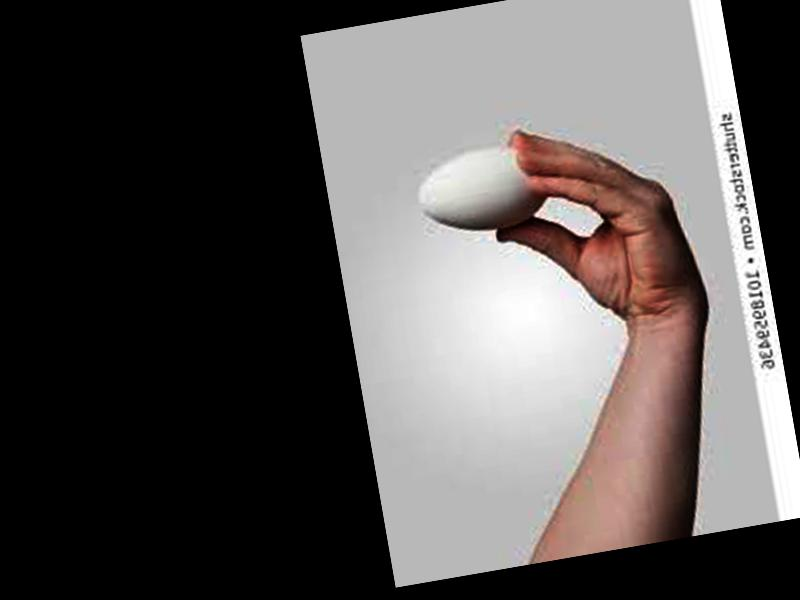Eggs: (409, 136, 552, 242)
